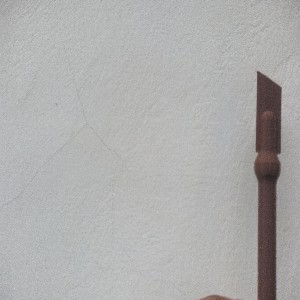cutter: (253, 69, 283, 300)
